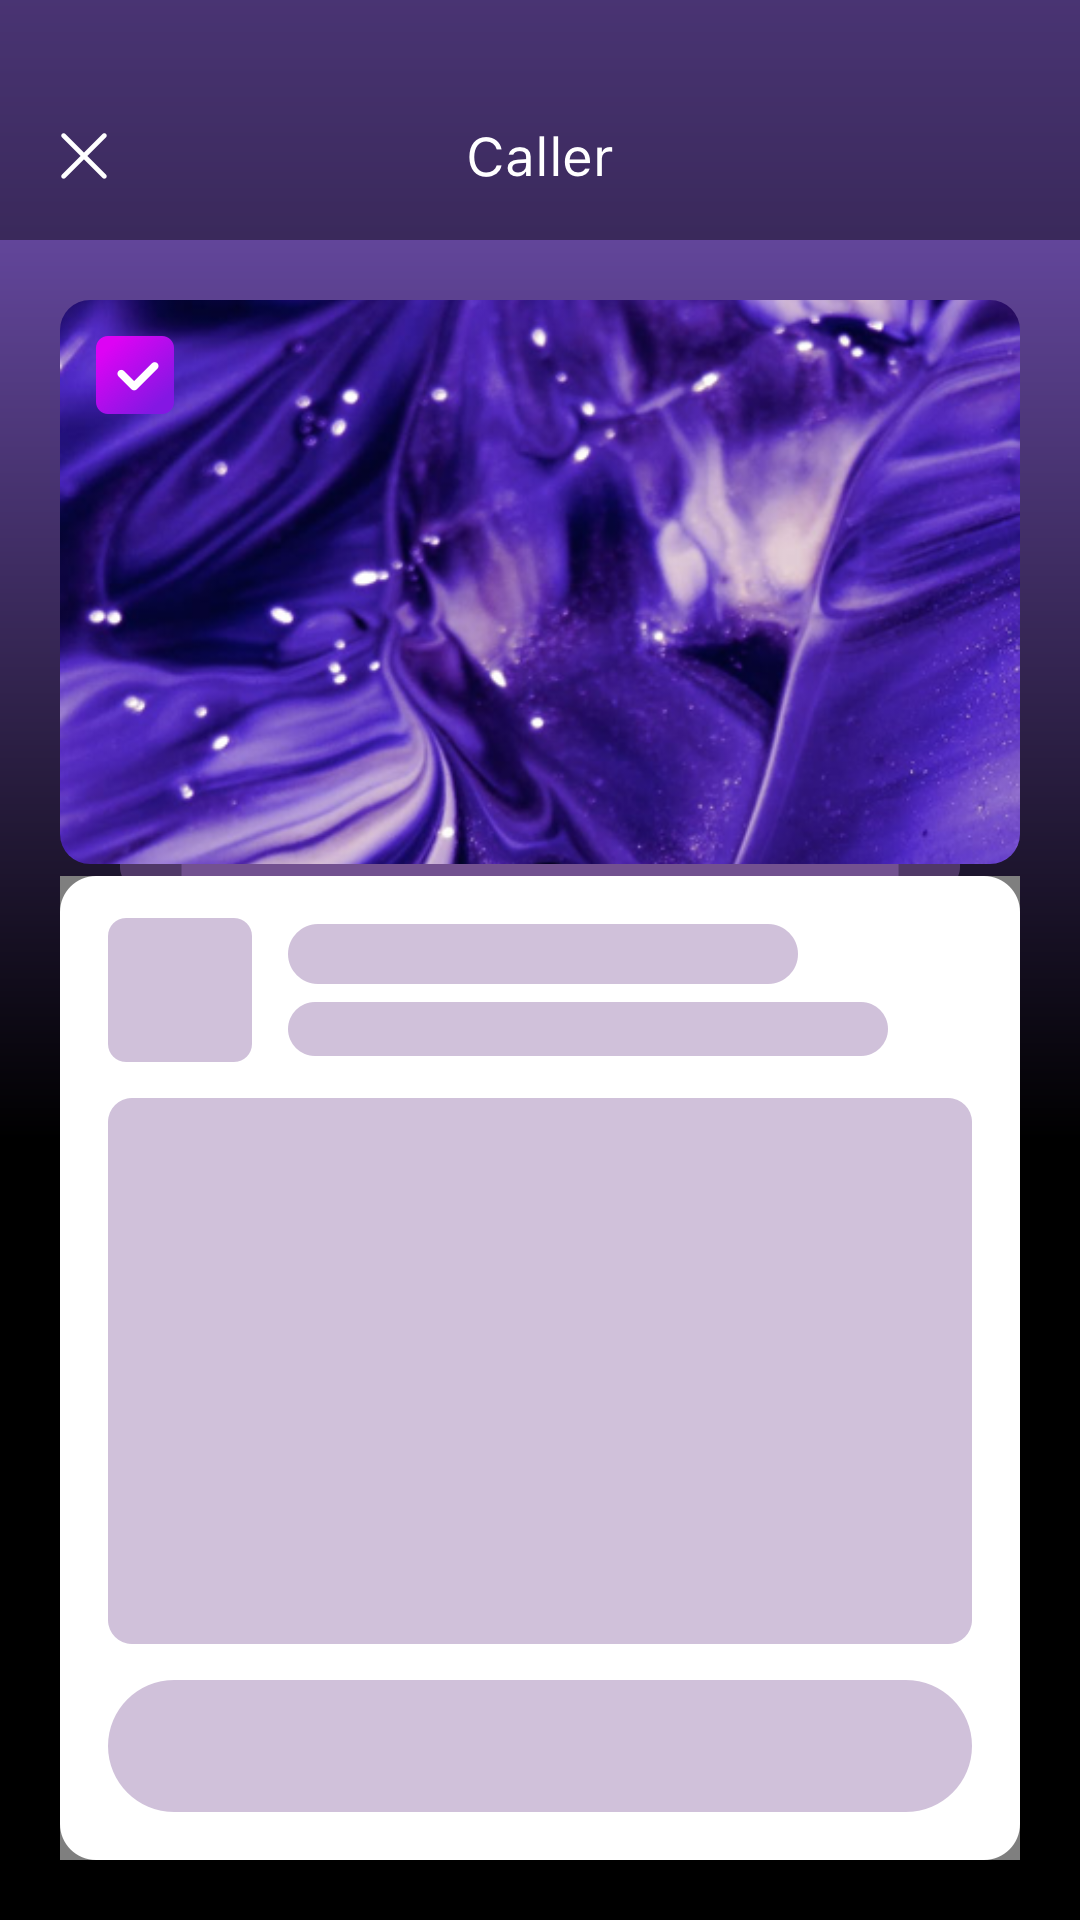

Where to tap for icons on this 1080*1920 app screen, as (x,y):
gou: (135,375)
